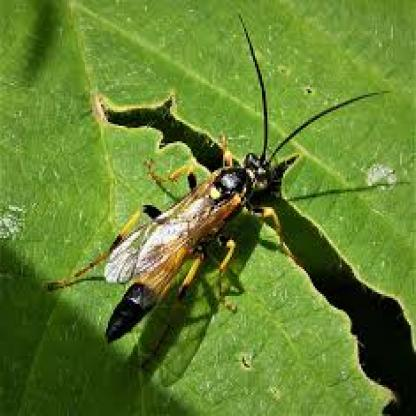sawfly: (52, 25, 375, 349)
